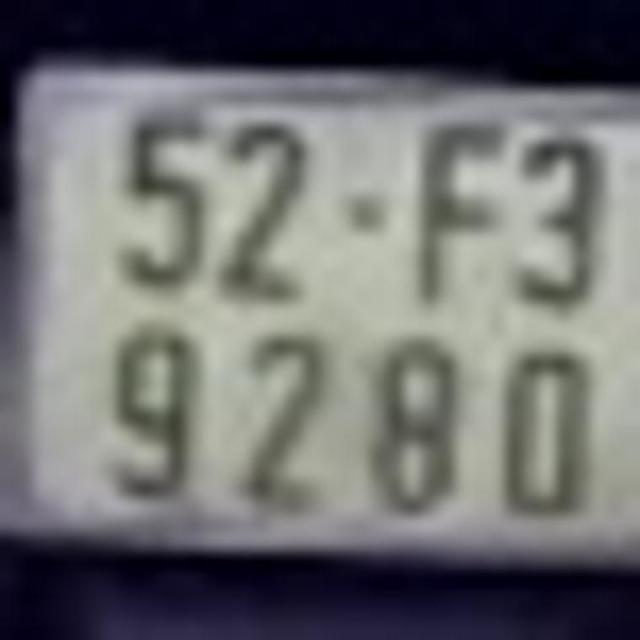0: (490, 330, 593, 525)
2: (241, 320, 331, 514), (218, 118, 308, 302)
3: (520, 119, 606, 320)
5: (121, 106, 208, 293)
8: (365, 321, 458, 521)
9: (110, 324, 202, 508)
F: (407, 113, 513, 313)
